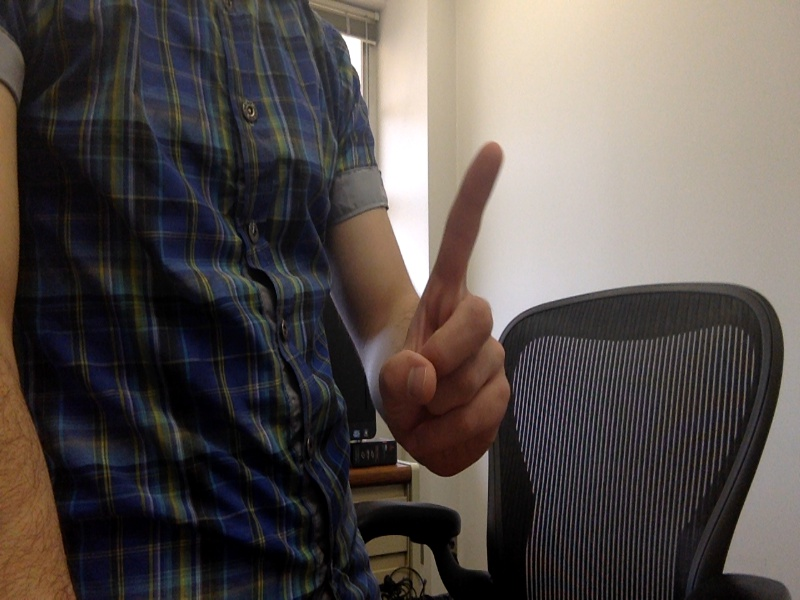1-hand: (384, 144, 523, 470)
